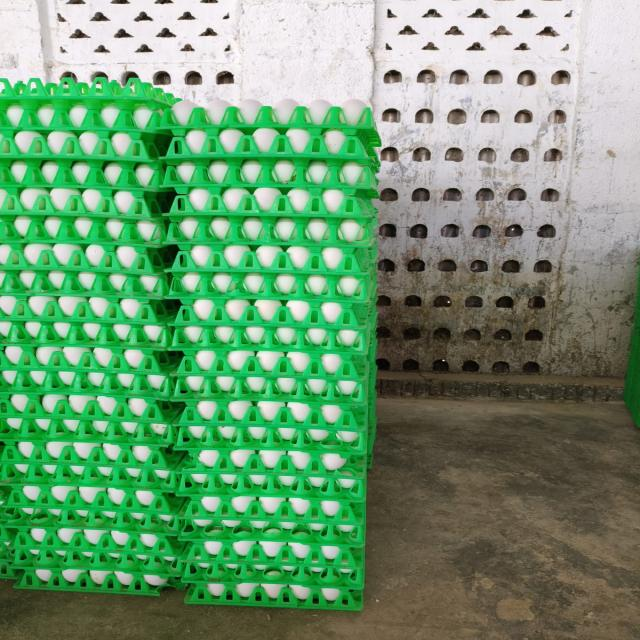egg_tray: (3, 398, 180, 534), (169, 188, 374, 302), (169, 188, 374, 301), (175, 340, 375, 454), (0, 322, 180, 445), (170, 242, 374, 346), (180, 495, 363, 608), (175, 400, 366, 507), (179, 496, 364, 606), (164, 101, 379, 192), (0, 188, 171, 300), (0, 188, 172, 299), (8, 485, 181, 594), (0, 241, 176, 348), (5, 484, 181, 590), (49, 0, 241, 95), (0, 195, 172, 299), (0, 394, 183, 491), (170, 188, 374, 275), (174, 368, 374, 456), (177, 457, 365, 546), (167, 242, 375, 322), (9, 484, 183, 578), (171, 342, 375, 419), (8, 488, 182, 578), (0, 127, 163, 219), (0, 132, 166, 222), (0, 156, 167, 244), (0, 130, 165, 219), (0, 104, 170, 188), (177, 468, 364, 544), (0, 161, 171, 244), (163, 130, 378, 196), (163, 131, 377, 197), (0, 160, 172, 239), (173, 349, 374, 416), (167, 187, 375, 248), (177, 442, 365, 508), (0, 78, 174, 149), (183, 540, 363, 608), (167, 211, 374, 270), (0, 78, 174, 148), (11, 523, 182, 594), (172, 216, 375, 275), (159, 99, 380, 151), (173, 349, 373, 406), (0, 198, 165, 267), (12, 526, 184, 592), (170, 298, 375, 353), (182, 528, 363, 588), (0, 240, 173, 302), (0, 156, 170, 217), (0, 236, 172, 296), (179, 495, 363, 551), (171, 308, 375, 358), (0, 240, 172, 299), (175, 424, 366, 477), (178, 495, 364, 549), (0, 344, 180, 399), (5, 482, 184, 536), (0, 103, 169, 160), (182, 529, 363, 582), (0, 295, 174, 350), (0, 394, 181, 446), (159, 99, 378, 141), (0, 441, 183, 491), (0, 99, 168, 152), (174, 399, 367, 442), (183, 563, 363, 608), (12, 548, 182, 595), (0, 200, 166, 248), (167, 269, 375, 304), (169, 187, 376, 222), (185, 570, 362, 610), (12, 525, 186, 562), (0, 413, 177, 447), (0, 78, 175, 112), (0, 130, 161, 166), (14, 562, 181, 595), (0, 268, 167, 301), (0, 318, 172, 350), (0, 369, 172, 398), (0, 486, 20, 579), (0, 496, 20, 579), (13, 485, 97, 501), (625, 320, 639, 414), (367, 367, 377, 469), (367, 370, 377, 468), (0, 541, 22, 580), (366, 339, 377, 414), (367, 340, 377, 420), (367, 339, 377, 416), (367, 366, 377, 435), (367, 368, 377, 435), (0, 550, 21, 580), (0, 518, 14, 562), (367, 416, 376, 470), (190, 541, 220, 556), (257, 401, 284, 417), (0, 486, 10, 526), (69, 277, 93, 293), (115, 252, 137, 269), (367, 424, 375, 469), (210, 217, 230, 235), (23, 189, 49, 202), (20, 189, 48, 201), (136, 225, 157, 241), (71, 221, 90, 238), (46, 221, 67, 236), (138, 226, 157, 242), (42, 396, 65, 408), (0, 486, 10, 513), (0, 486, 9, 513), (0, 487, 6, 527), (0, 488, 9, 513), (229, 450, 257, 458), (136, 447, 154, 459), (289, 403, 310, 413), (59, 300, 73, 315), (30, 218, 49, 229), (225, 250, 238, 266), (0, 486, 8, 511), (284, 451, 306, 460), (103, 106, 118, 119), (127, 400, 142, 413), (0, 486, 8, 510), (102, 231, 121, 241), (138, 327, 153, 339), (84, 578, 101, 588), (50, 277, 62, 291), (339, 550, 354, 561), (12, 227, 28, 237), (114, 133, 130, 143), (138, 200, 150, 213), (255, 134, 268, 146), (59, 254, 71, 266), (104, 232, 119, 241), (187, 465, 205, 472), (358, 458, 365, 476), (0, 435, 6, 455), (256, 246, 267, 256), (68, 397, 90, 402), (130, 210, 143, 218), (140, 230, 153, 238), (202, 558, 219, 564), (5, 195, 15, 205), (92, 306, 104, 314), (327, 591, 337, 600), (268, 589, 278, 598), (177, 381, 187, 390), (119, 141, 127, 152), (326, 456, 337, 464), (262, 451, 279, 456), (74, 105, 86, 112), (298, 552, 308, 560), (0, 420, 7, 431), (127, 586, 139, 592), (118, 142, 127, 150), (287, 558, 299, 564), (69, 194, 79, 201), (0, 440, 5, 454), (245, 558, 259, 563), (312, 480, 323, 486), (0, 306, 11, 312), (119, 192, 130, 198), (12, 396, 23, 402), (156, 263, 165, 270), (279, 332, 286, 340), (22, 135, 33, 140), (0, 529, 5, 540), (81, 132, 92, 137), (325, 511, 336, 516), (21, 112, 27, 121), (14, 232, 23, 238), (318, 221, 325, 228), (5, 433, 12, 440), (102, 401, 110, 407), (0, 440, 4, 452), (0, 441, 4, 453), (258, 456, 263, 465), (194, 532, 203, 537), (185, 556, 194, 561), (233, 573, 244, 577), (68, 195, 79, 199), (348, 380, 355, 386), (116, 192, 130, 195), (206, 450, 213, 456), (50, 190, 57, 196), (185, 236, 199, 239), (0, 442, 4, 452), (115, 294, 125, 298), (372, 344, 377, 352), (95, 191, 100, 199), (116, 192, 126, 196), (226, 467, 236, 471), (365, 109, 370, 117), (63, 71, 71, 76), (369, 440, 372, 453), (0, 441, 4, 450), (0, 541, 9, 545), (226, 308, 233, 313), (32, 256, 37, 263), (23, 227, 28, 234), (202, 405, 207, 412), (228, 476, 234, 481), (236, 601, 246, 604), (316, 458, 321, 464), (227, 245, 237, 248), (298, 514, 304, 519), (338, 194, 343, 200), (14, 498, 20, 503), (148, 589, 155, 593), (181, 435, 185, 442), (258, 476, 265, 480), (329, 354, 336, 358), (81, 389, 88, 393), (330, 136, 337, 140), (52, 220, 59, 224), (196, 262, 203, 266), (266, 509, 273, 513), (372, 141, 379, 145), (370, 440, 372, 453), (220, 598, 225, 603), (157, 292, 162, 297), (327, 590, 332, 595), (86, 136, 91, 141), (309, 467, 314, 472), (26, 143, 30, 149), (119, 136, 125, 140), (219, 455, 225, 459), (298, 135, 302, 141), (47, 233, 53, 237), (214, 231, 218, 237), (274, 500, 278, 506), (83, 144, 89, 148), (297, 409, 301, 415), (10, 107, 21, 109), (0, 519, 3, 526), (280, 602, 287, 605), (164, 406, 171, 409), (0, 444, 3, 451), (76, 298, 81, 302), (108, 264, 113, 268), (17, 401, 21, 406), (0, 520, 4, 525), (275, 263, 279, 268), (53, 230, 58, 234), (243, 585, 247, 590), (155, 211, 159, 216), (636, 301, 639, 307), (37, 310, 43, 313), (52, 189, 58, 192), (43, 220, 45, 228), (69, 262, 73, 266), (124, 195, 128, 199), (47, 231, 51, 235), (203, 139, 207, 143), (337, 604, 341, 608), (122, 236, 127, 239), (153, 212, 158, 215), (105, 202, 110, 205), (22, 136, 27, 139), (100, 488, 105, 491), (0, 401, 2, 408), (195, 478, 202, 480), (0, 102, 2, 109), (85, 190, 92, 192), (325, 191, 329, 194), (150, 118, 153, 122), (32, 222, 35, 226), (135, 265, 139, 268), (98, 193, 100, 199), (222, 221, 226, 224), (370, 358, 373, 362), (269, 601, 275, 603), (50, 228, 53, 232), (354, 236, 357, 240), (356, 550, 359, 554), (167, 158, 171, 161), (52, 190, 57, 192), (141, 434, 146, 436), (270, 573, 272, 578), (232, 405, 235, 408), (169, 303, 172, 306), (60, 248, 63, 251), (193, 192, 196, 195), (11, 451, 14, 454), (352, 456, 355, 459), (87, 221, 90, 224), (245, 545, 248, 548), (230, 563, 233, 566), (17, 402, 20, 405), (203, 401, 207, 403), (154, 164, 156, 168), (87, 150, 91, 152), (60, 190, 68, 191), (61, 236, 65, 238), (329, 512, 333, 514), (325, 307, 329, 309), (0, 530, 3, 532), (87, 489, 90, 491), (103, 292, 106, 294), (99, 289, 102, 291), (61, 189, 67, 190), (325, 512, 328, 514), (270, 470, 272, 473), (263, 464, 265, 467), (79, 584, 82, 586), (98, 574, 100, 577), (293, 135, 295, 138), (41, 234, 44, 236), (94, 264, 97, 266), (63, 227, 65, 230), (316, 514, 318, 517), (265, 506, 267, 509), (179, 203, 185, 204), (177, 197, 179, 200), (356, 564, 359, 566), (122, 112, 125, 114), (202, 602, 208, 603), (150, 254, 155, 255), (257, 580, 262, 581), (240, 450, 245, 451), (25, 503, 30, 504), (209, 602, 214, 603), (43, 300, 45, 302), (55, 151, 59, 152), (57, 256, 59, 258), (342, 386, 344, 388), (258, 337, 260, 339), (115, 327, 117, 329), (65, 194, 67, 196), (85, 192, 87, 194), (93, 231, 95, 233), (86, 489, 88, 491), (362, 438, 364, 440), (248, 461, 250, 463), (297, 460, 299, 462), (114, 230, 116, 232), (3, 249, 5, 251), (8, 311, 10, 313), (32, 306, 34, 308), (0, 288, 2, 290), (358, 471, 360, 473), (28, 136, 32, 137), (193, 184, 195, 186), (36, 545, 38, 547), (88, 490, 91, 491), (7, 187, 10, 188), (9, 230, 10, 233), (265, 578, 268, 579), (291, 464, 292, 467), (87, 151, 90, 152), (325, 409, 326, 411), (327, 580, 328, 582), (25, 274, 26, 276), (0, 548, 1, 550), (129, 305, 131, 306), (15, 258, 17, 259), (43, 247, 45, 248), (105, 202, 107, 203), (284, 342, 286, 343), (258, 339, 259, 341), (249, 331, 251, 332), (319, 229, 321, 230), (125, 209, 126, 211), (249, 536, 251, 537), (38, 236, 40, 237), (98, 262, 99, 264), (41, 194, 43, 195), (34, 300, 35, 302), (194, 247, 196, 248), (247, 247, 249, 248), (297, 518, 299, 519), (279, 500, 281, 501), (181, 254, 183, 255), (27, 146, 28, 148), (116, 118, 118, 119), (171, 438, 172, 440), (65, 589, 66, 590), (307, 574, 308, 575), (0, 223, 1, 224), (116, 221, 117, 222), (96, 192, 97, 193), (355, 223, 356, 224), (0, 107, 1, 108), (156, 345, 157, 346), (18, 203, 19, 204), (327, 598, 328, 599), (39, 194, 40, 195), (212, 229, 213, 230), (67, 245, 68, 246), (31, 245, 32, 246), (318, 267, 319, 268), (297, 594, 298, 595), (271, 246, 272, 247), (302, 562, 303, 563), (107, 236, 108, 237), (316, 118, 317, 119), (212, 145, 213, 146), (191, 141, 192, 142), (22, 501, 23, 502), (298, 416, 300, 416), (261, 414, 261, 414), (232, 401, 235, 401), (178, 410, 178, 410), (349, 330, 350, 330), (299, 574, 299, 574), (25, 278, 26, 278), (76, 275, 76, 277), (98, 108, 99, 108), (127, 312, 127, 312), (34, 310, 34, 310), (74, 306, 74, 308), (23, 152, 24, 152), (10, 262, 10, 264), (116, 194, 118, 194), (241, 356, 243, 356), (241, 356, 241, 358), (361, 228, 361, 228), (99, 342, 99, 344), (5, 232, 6, 232), (97, 396, 97, 399), (350, 434, 351, 434), (322, 466, 323, 466), (215, 452, 217, 452), (3, 198, 3, 200), (3, 194, 3, 194), (45, 132, 45, 132), (3, 524, 3, 526), (5, 260, 5, 262), (5, 210, 6, 210), (103, 201, 103, 201), (70, 196, 74, 196), (62, 190, 67, 190), (7, 308, 8, 308), (361, 252, 361, 252), (125, 236, 125, 237), (125, 140, 125, 142), (372, 349, 372, 350), (247, 252, 248, 252), (192, 250, 193, 250), (332, 554, 332, 554), (130, 115, 130, 116), (147, 110, 148, 110), (297, 414, 297, 414), (363, 113, 363, 114), (170, 498, 170, 499)
